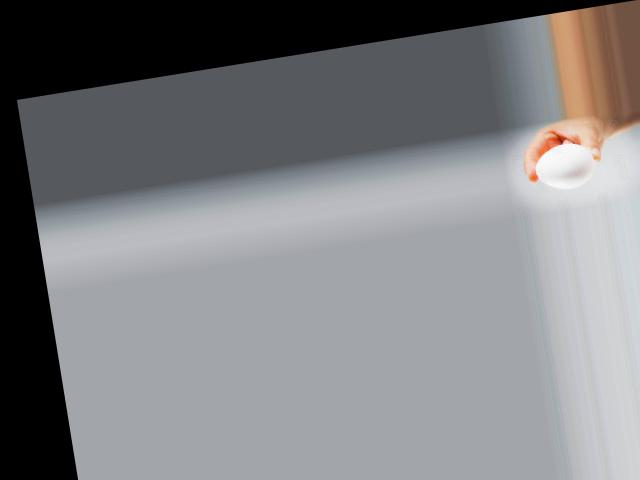egg: (531, 141, 597, 192)
